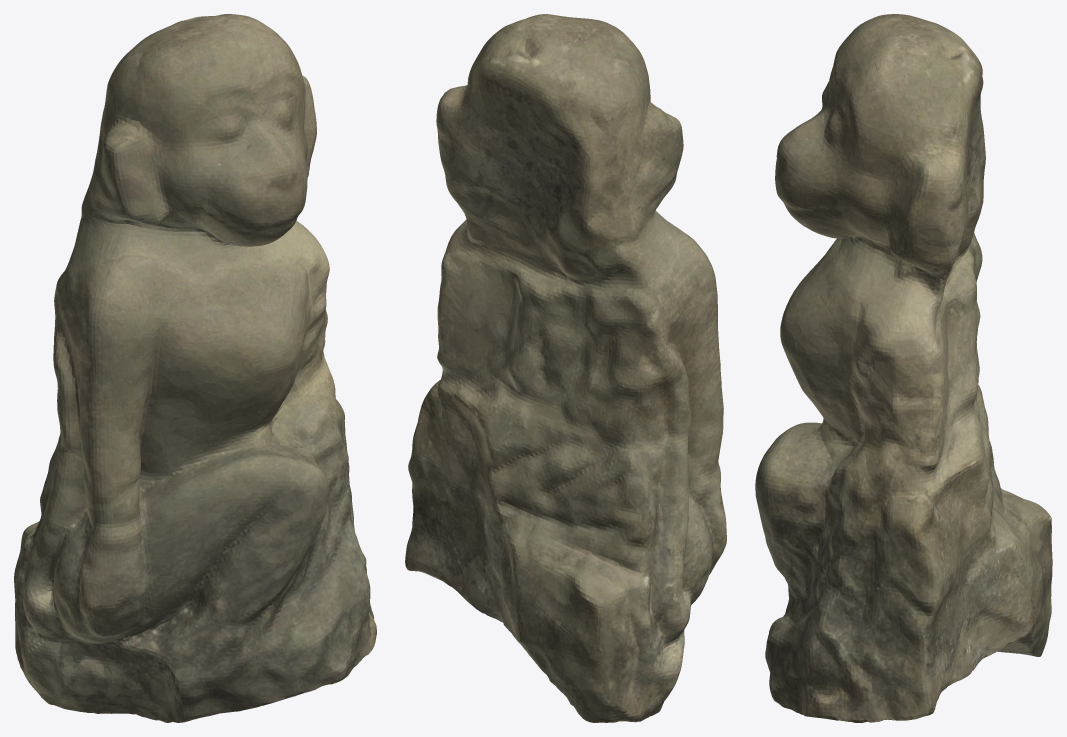
File: 23_khi_final.glb
The picture shows the model from 3 angles, left to right: view 1: azimuth 30°, elevation 25°; view 2: azimuth 150°, elevation 25°; view 3: azimuth 270°, elevation 25°; orthographic projection. The views are drawn at different scales.
Size of the model in its own units: 0.2414 by 0.4995 by 0.1977.
Materials: 1 (1 with a texture image).
